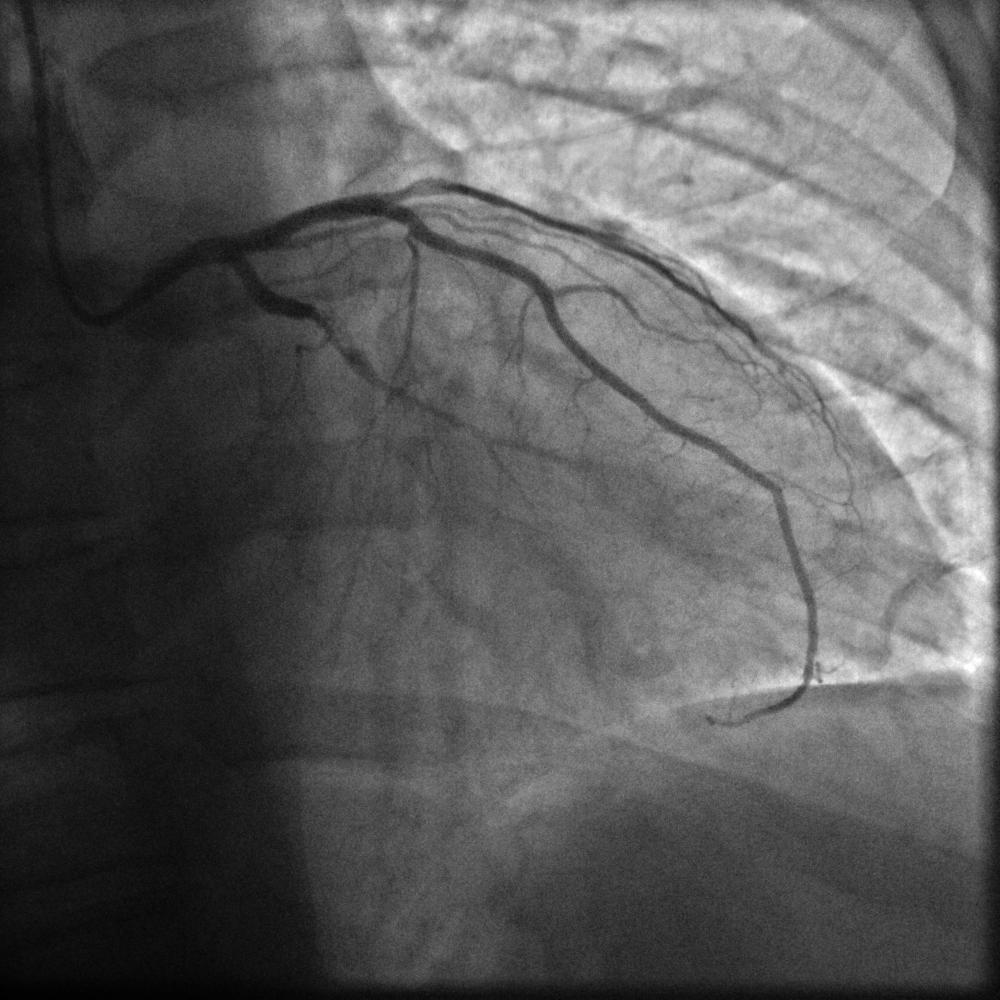Stenosis: (299, 303, 360, 355)
